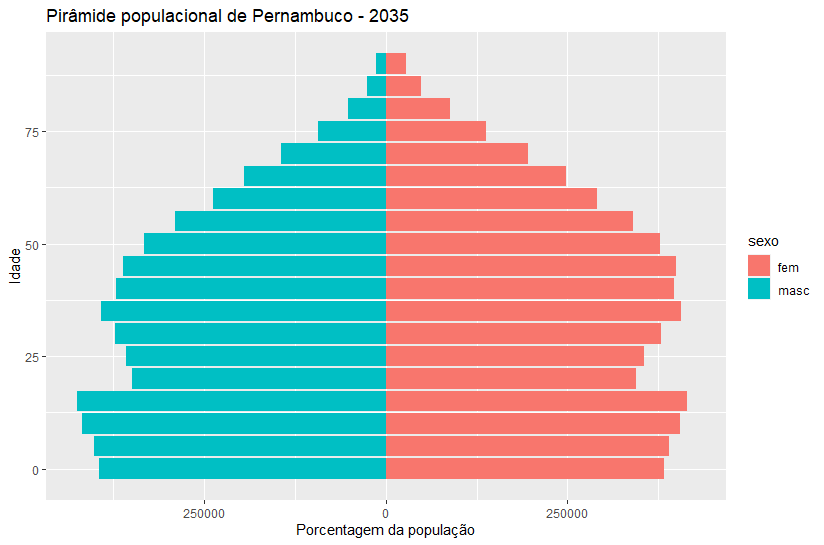

Layout of this report page (visuals, bound fields, positions):
{"tool":"powerbi","page":{"name":"Página 2","canvas":[1280,720],"ordinal":1},"visuals":[{"type":"clusteredBarChart","fields":{"Category":["Sheet 1.Idade"],"Y":["Sum(Sheet 1.Ecuador)","Sum(Sheet 1.Togo)","Sum(Sheet 1.Greece)"]},"box":[184.2,91.2,990.1,550.1],"z":0},{"type":"textbox","box":[576.9,59.9,205.7,31.3],"z":1}]}

Visuals, with their boxes on the page's 1280x720 design canvas (x1, y1, x2, y2). These are canvas units, not pixel positions in the 824x545 screenshot, which may show the page scaled, cropped or inside an application window:
clusteredBarChart - Sheet 1.Idade x Sum(Sheet 1.Ecuador): select_region(184, 91, 1174, 641)
textbox: select_region(577, 60, 783, 91)
